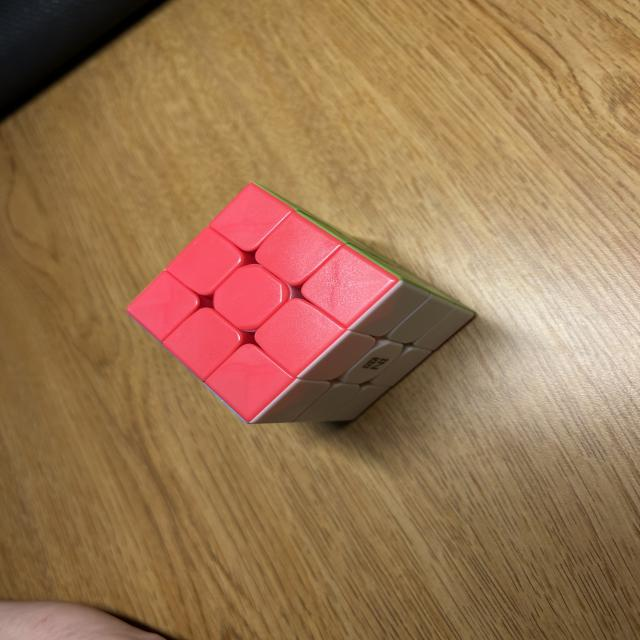Rubiks Cube: (125, 184, 478, 425)
